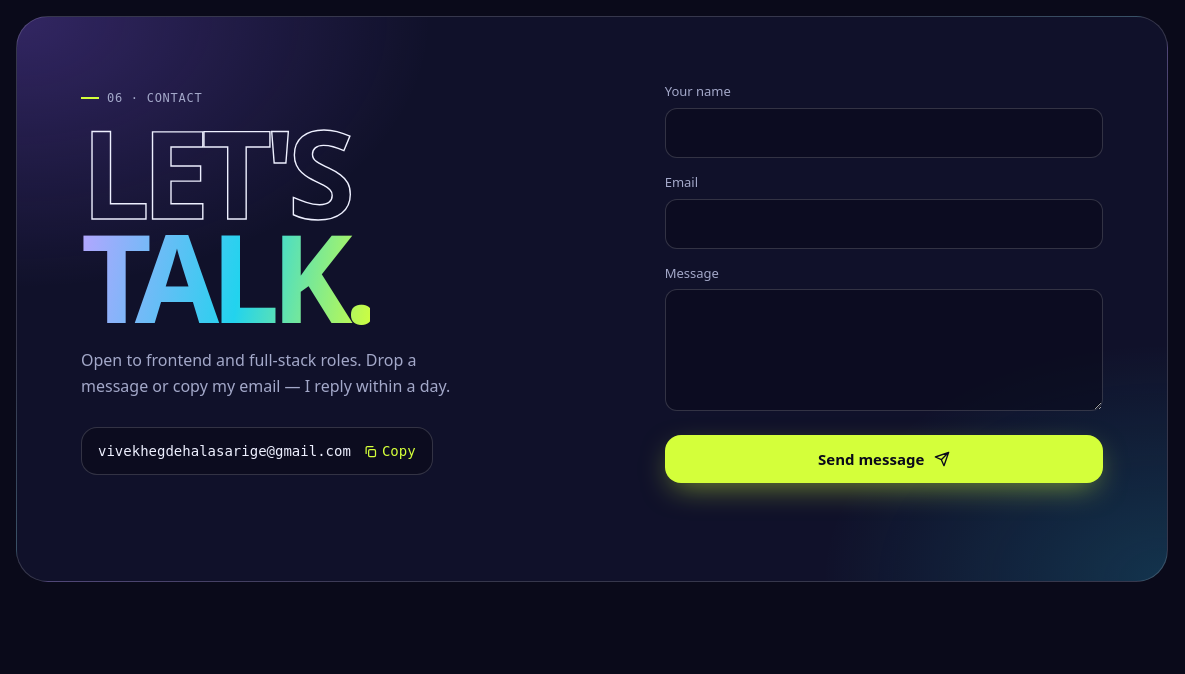
Test: Contact form › shows validation errors and does not submit invalid input
This screenshot has width=1185, height=674.
What coordinates should you click on to do the following:
click the button "Send message"
I would click on:
 (884, 459)
Its box is [665,435,1103,483].
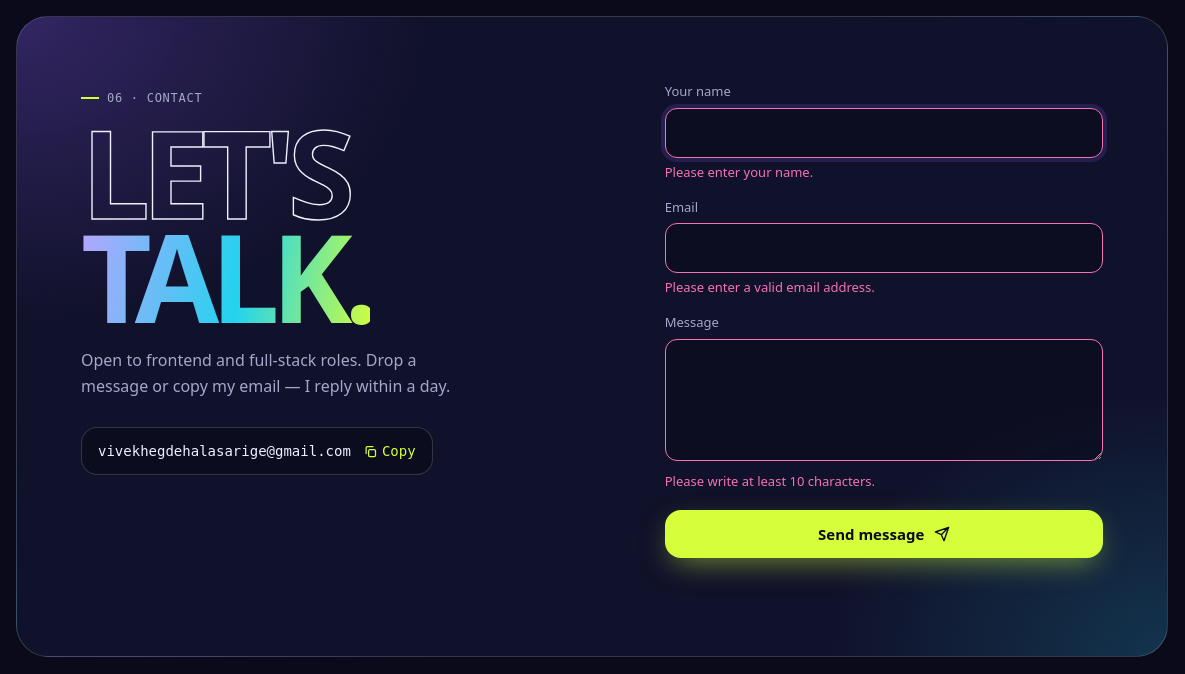
Now the text "Please enter your name." is shown, box [665,163,813,181]
